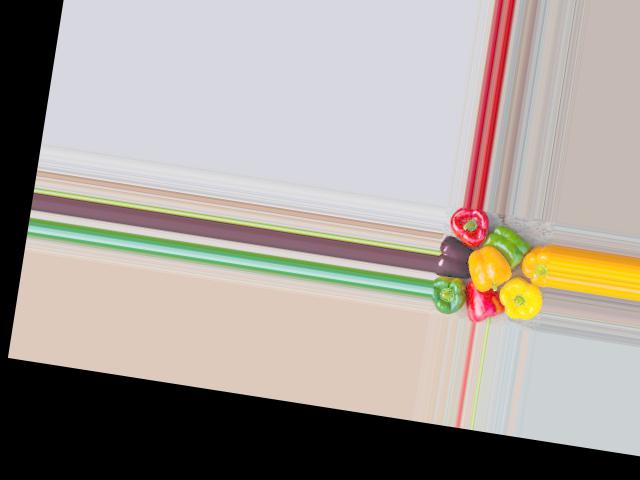bell_pepper: (510, 229, 553, 286)
